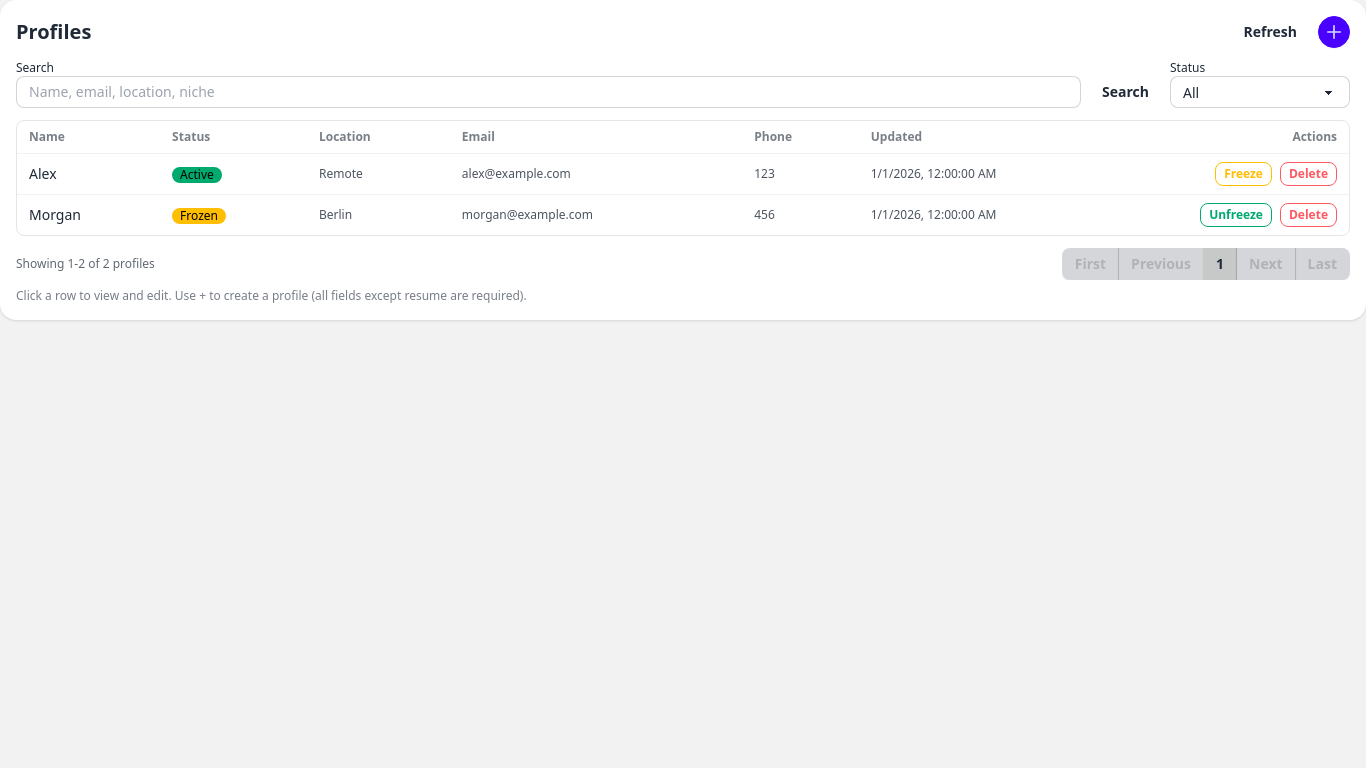
ProfilesPage › shows freeze modal impact copy and allows cancel
This screenshot has width=1366, height=768.
Expected: the text "Alex" is shown, [17, 154, 160, 194]
Click the button "Freeze".
click(1244, 174)  # box [1215, 162, 1272, 186]
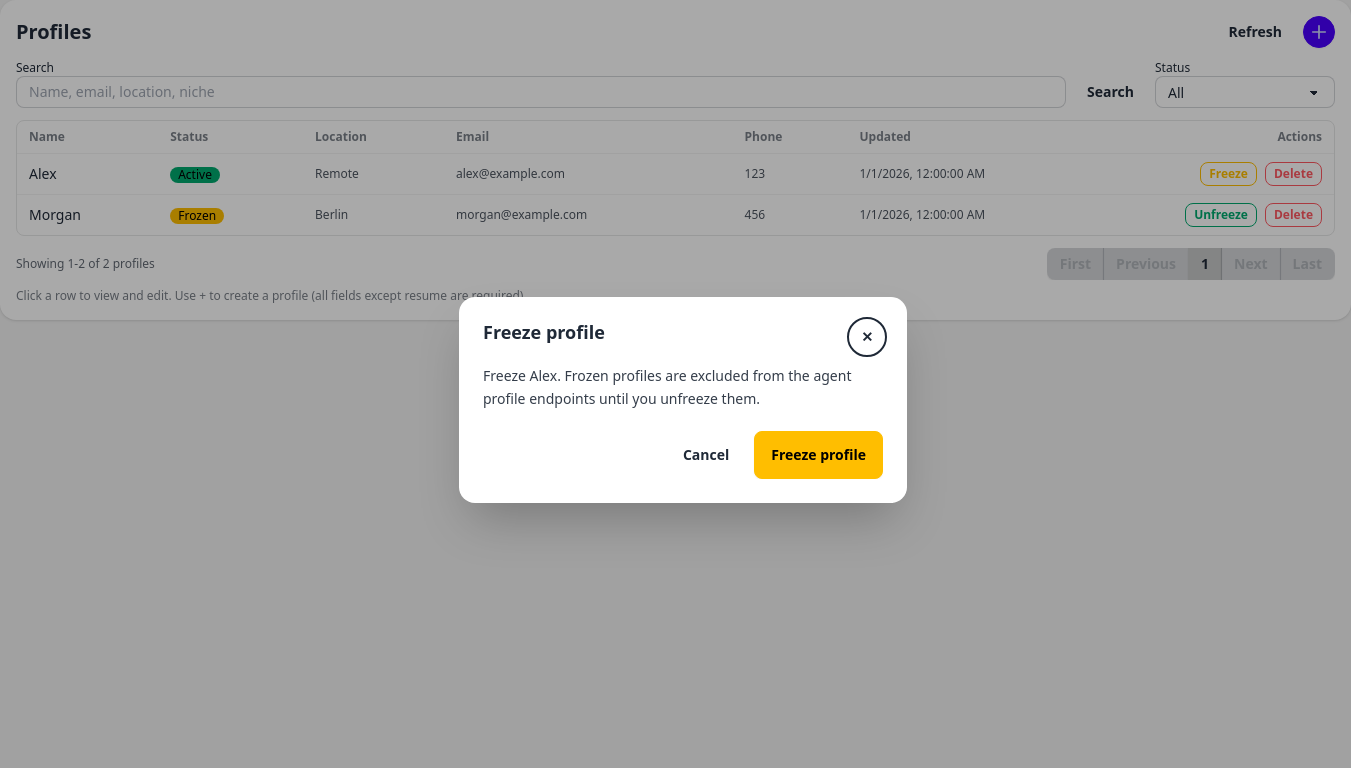
Expected: the heading "Freeze profile" is shown, [483, 321, 605, 344]
Expected: the text "excluded from the agent profile endpoints" is shown, [483, 366, 852, 408]
Click the button "Cancel".
click(706, 455)  # box [666, 431, 746, 479]
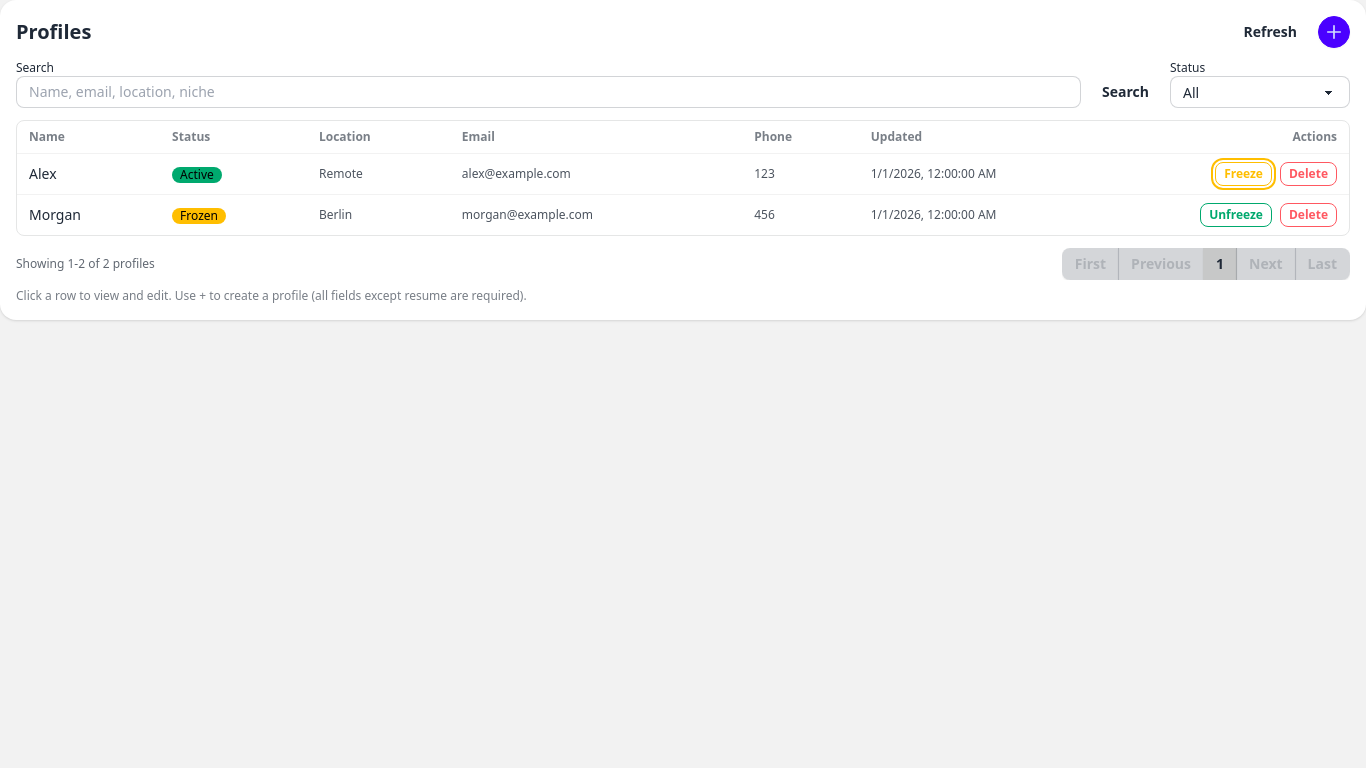
Expected: the text "Alex" is shown, [17, 154, 160, 194]
Expected: the heading "Freeze profile" is gone
